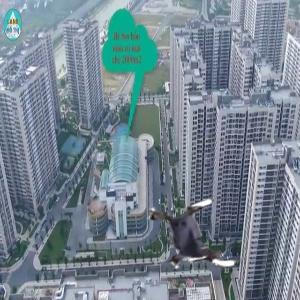drone: (147, 192, 239, 284)
